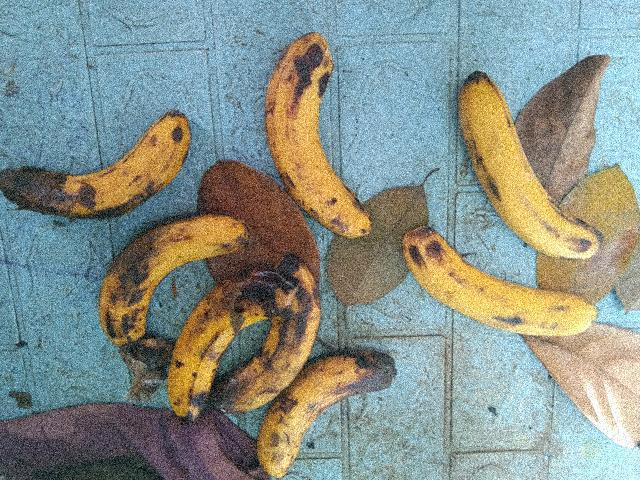overripe: (257, 21, 378, 246)
ripe: (446, 65, 616, 286), (388, 228, 610, 354)
rotten: (0, 104, 208, 256), (182, 260, 340, 446), (67, 205, 248, 364), (246, 345, 402, 475), (159, 266, 269, 423)
